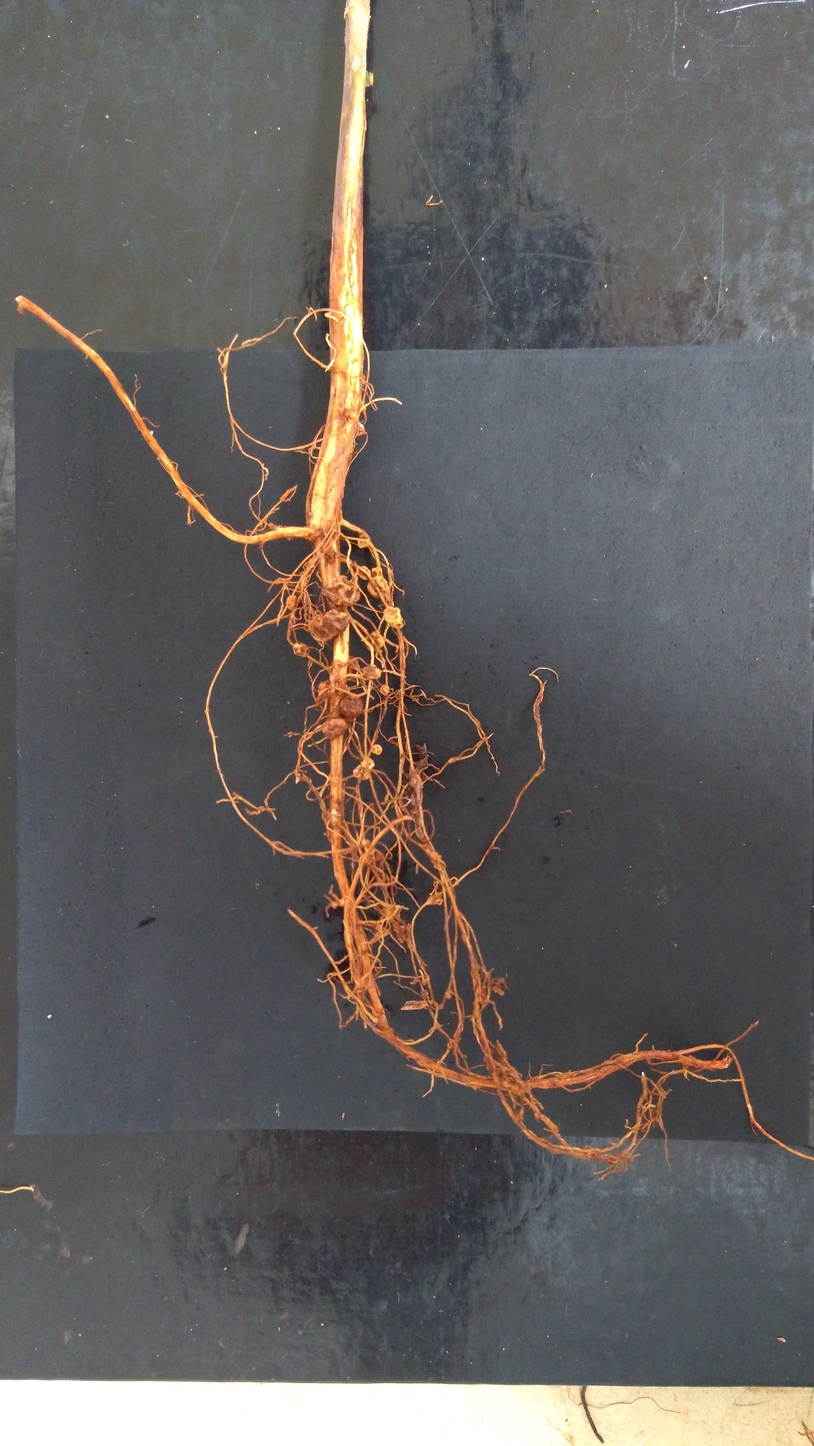nodule: (307, 609, 350, 642), (325, 574, 361, 607), (339, 693, 364, 719), (321, 717, 348, 740), (406, 772, 424, 806), (367, 575, 390, 598), (382, 606, 404, 629), (361, 631, 385, 652), (316, 680, 333, 701), (489, 977, 507, 995), (362, 664, 382, 680), (292, 641, 310, 658), (351, 764, 370, 780), (322, 544, 336, 563), (357, 565, 372, 581), (357, 532, 371, 549), (344, 409, 358, 423), (286, 595, 297, 611), (361, 757, 375, 769), (364, 69, 373, 87), (371, 566, 383, 579), (393, 688, 405, 700), (371, 744, 382, 755), (380, 684, 390, 696), (362, 837, 370, 846)
